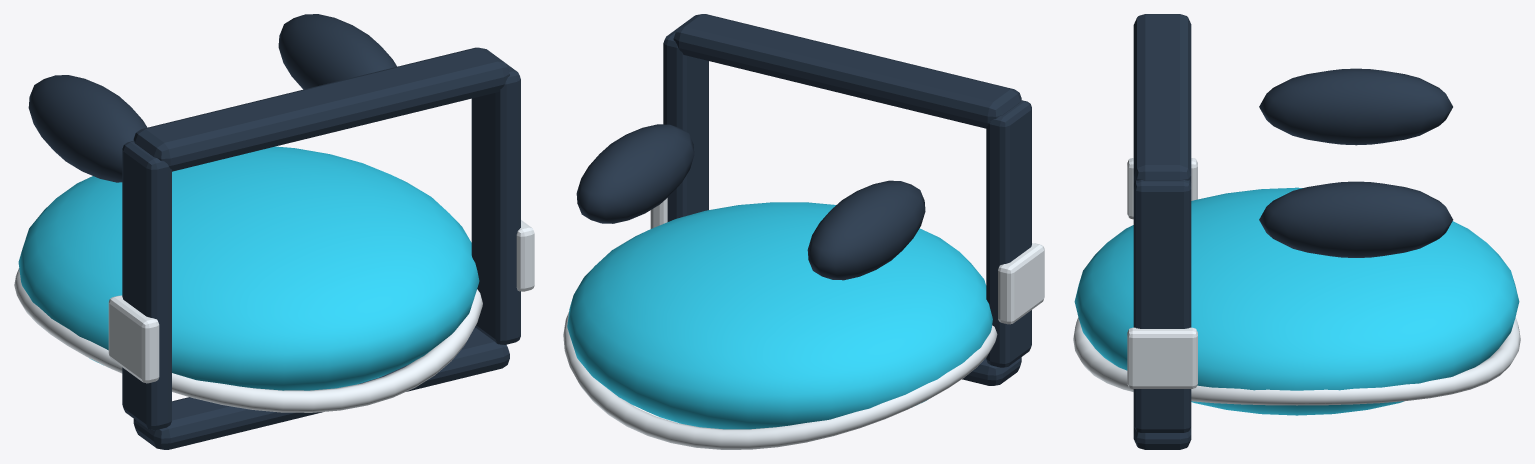
Rendered from turtle-shell-strap-v1.glb.
3 views of the same model, side by side, from view 1: azimuth 30°, elevation 25°; view 2: azimuth 150°, elevation 25°; view 3: azimuth 270°, elevation 25° (orthographic). The views are drawn at different scales.
Visible parts, largest first — view 1: one domed outer kneecap shield, back of wraparound strap, strap side return.001, strap side return, continuous shell trim, leg-side padded bolsters.001, front cross-knee strap, leg-side padded bolsters, strap clasp on side, strap clasp on side.001; view 2: one domed outer kneecap shield, back of wraparound strap, strap side return, continuous shell trim, leg-side padded bolsters.001, leg-side padded bolsters, strap side return.001, strap clasp on side, front cross-knee strap; view 3: one domed outer kneecap shield, leg-side padded bolsters.001, leg-side padded bolsters, strap side return.001, back of wraparound strap, continuous shell trim, strap clasp on side.001, front cross-knee strap, strap clasp on side.
Boxes of the visible parts, bbox=[...] form: one domed outer kneecap shield: bbox=[18, 146, 479, 390]; back of wraparound strap: bbox=[133, 47, 509, 171]; strap side return.001: bbox=[471, 63, 520, 344]; strap side return: bbox=[122, 141, 171, 430]; continuous shell trim: bbox=[14, 268, 482, 412]; leg-side padded bolsters.001: bbox=[28, 75, 147, 182]; front cross-knee strap: bbox=[133, 327, 509, 449]; leg-side padded bolsters: bbox=[278, 14, 396, 89]; strap clasp on side: bbox=[108, 295, 159, 383]; strap clasp on side.001: bbox=[516, 220, 534, 291]; one domed outer kneecap shield: bbox=[567, 202, 992, 429]; back of wraparound strap: bbox=[673, 14, 1021, 128]; strap side return: bbox=[986, 100, 1031, 367]; continuous shell trim: bbox=[563, 312, 997, 449]; leg-side padded bolsters.001: bbox=[807, 180, 925, 280]; leg-side padded bolsters: bbox=[576, 124, 694, 223]; strap side return.001: bbox=[663, 28, 708, 221]; strap clasp on side: bbox=[998, 243, 1044, 324]; front cross-knee strap: bbox=[962, 357, 1021, 385]; one domed outer kneecap shield: bbox=[1074, 187, 1519, 415]; leg-side padded bolsters.001: bbox=[1259, 68, 1452, 145]; leg-side padded bolsters: bbox=[1259, 181, 1453, 257]; strap side return.001: bbox=[1133, 180, 1191, 432]; back of wraparound strap: bbox=[1133, 14, 1191, 182]; continuous shell trim: bbox=[1073, 317, 1520, 405]; strap clasp on side.001: bbox=[1127, 327, 1197, 388]; front cross-knee strap: bbox=[1133, 426, 1191, 449]; strap clasp on side: bbox=[1127, 158, 1197, 219].
Size of the model in its own units: 0.568 by 0.4215 by 0.5897.
